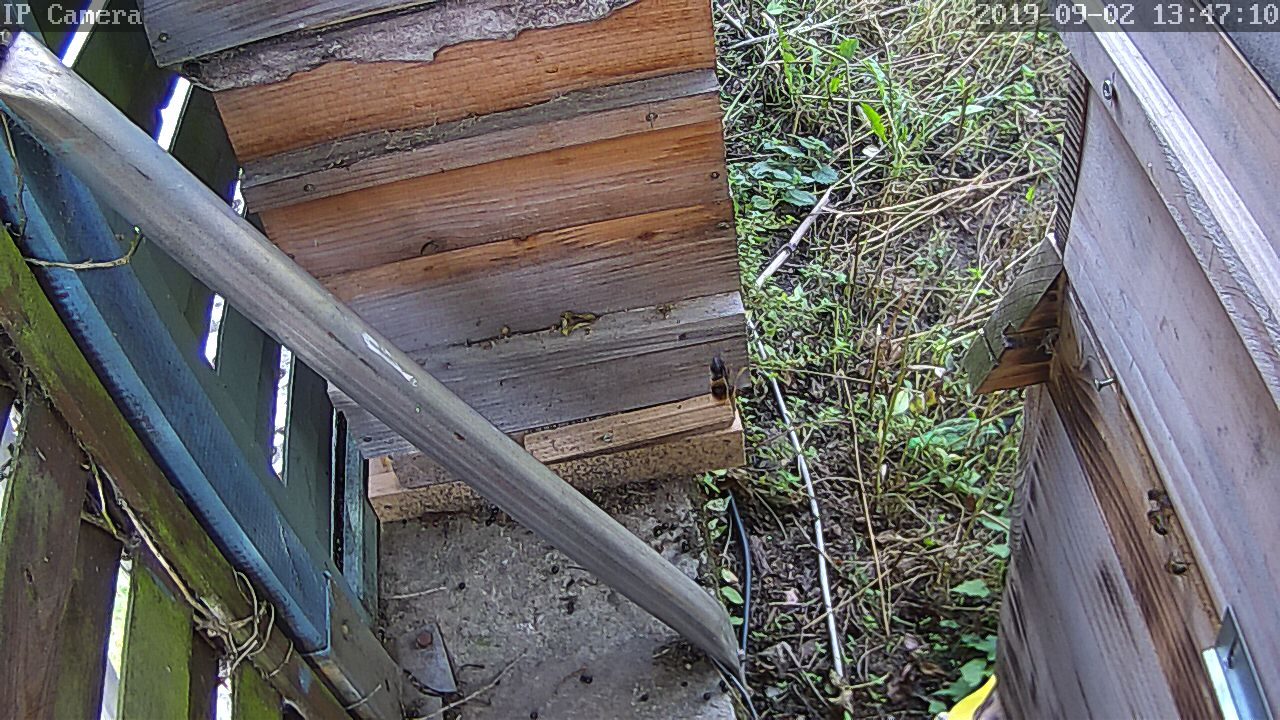bee: (1165, 555, 1195, 581), (1139, 509, 1168, 534), (1146, 488, 1172, 515)
hornet: (702, 354, 740, 405)
